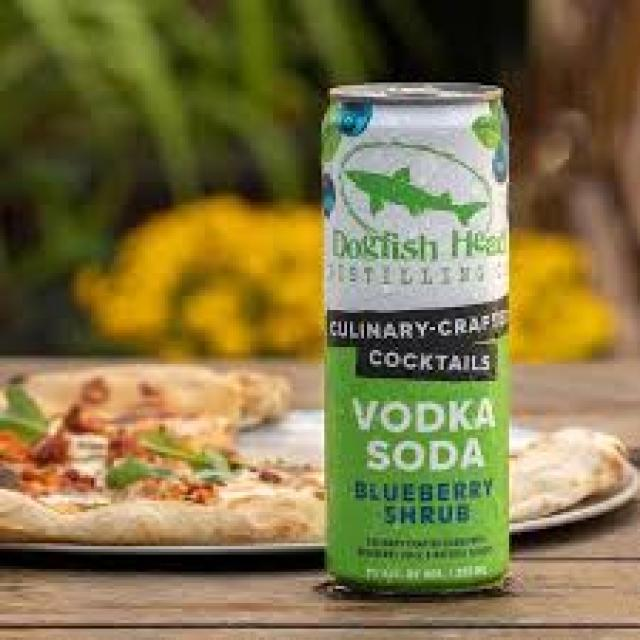Cans: (310, 71, 529, 597)
